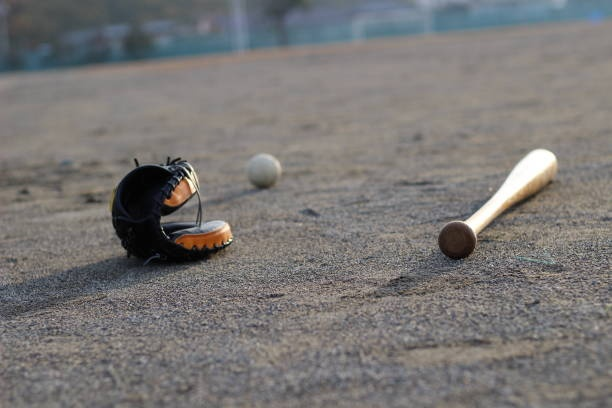bita: (438, 146, 556, 255)
